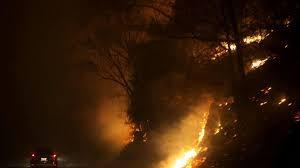fire: (168, 111, 214, 167), (241, 29, 271, 44), (248, 56, 268, 69)
